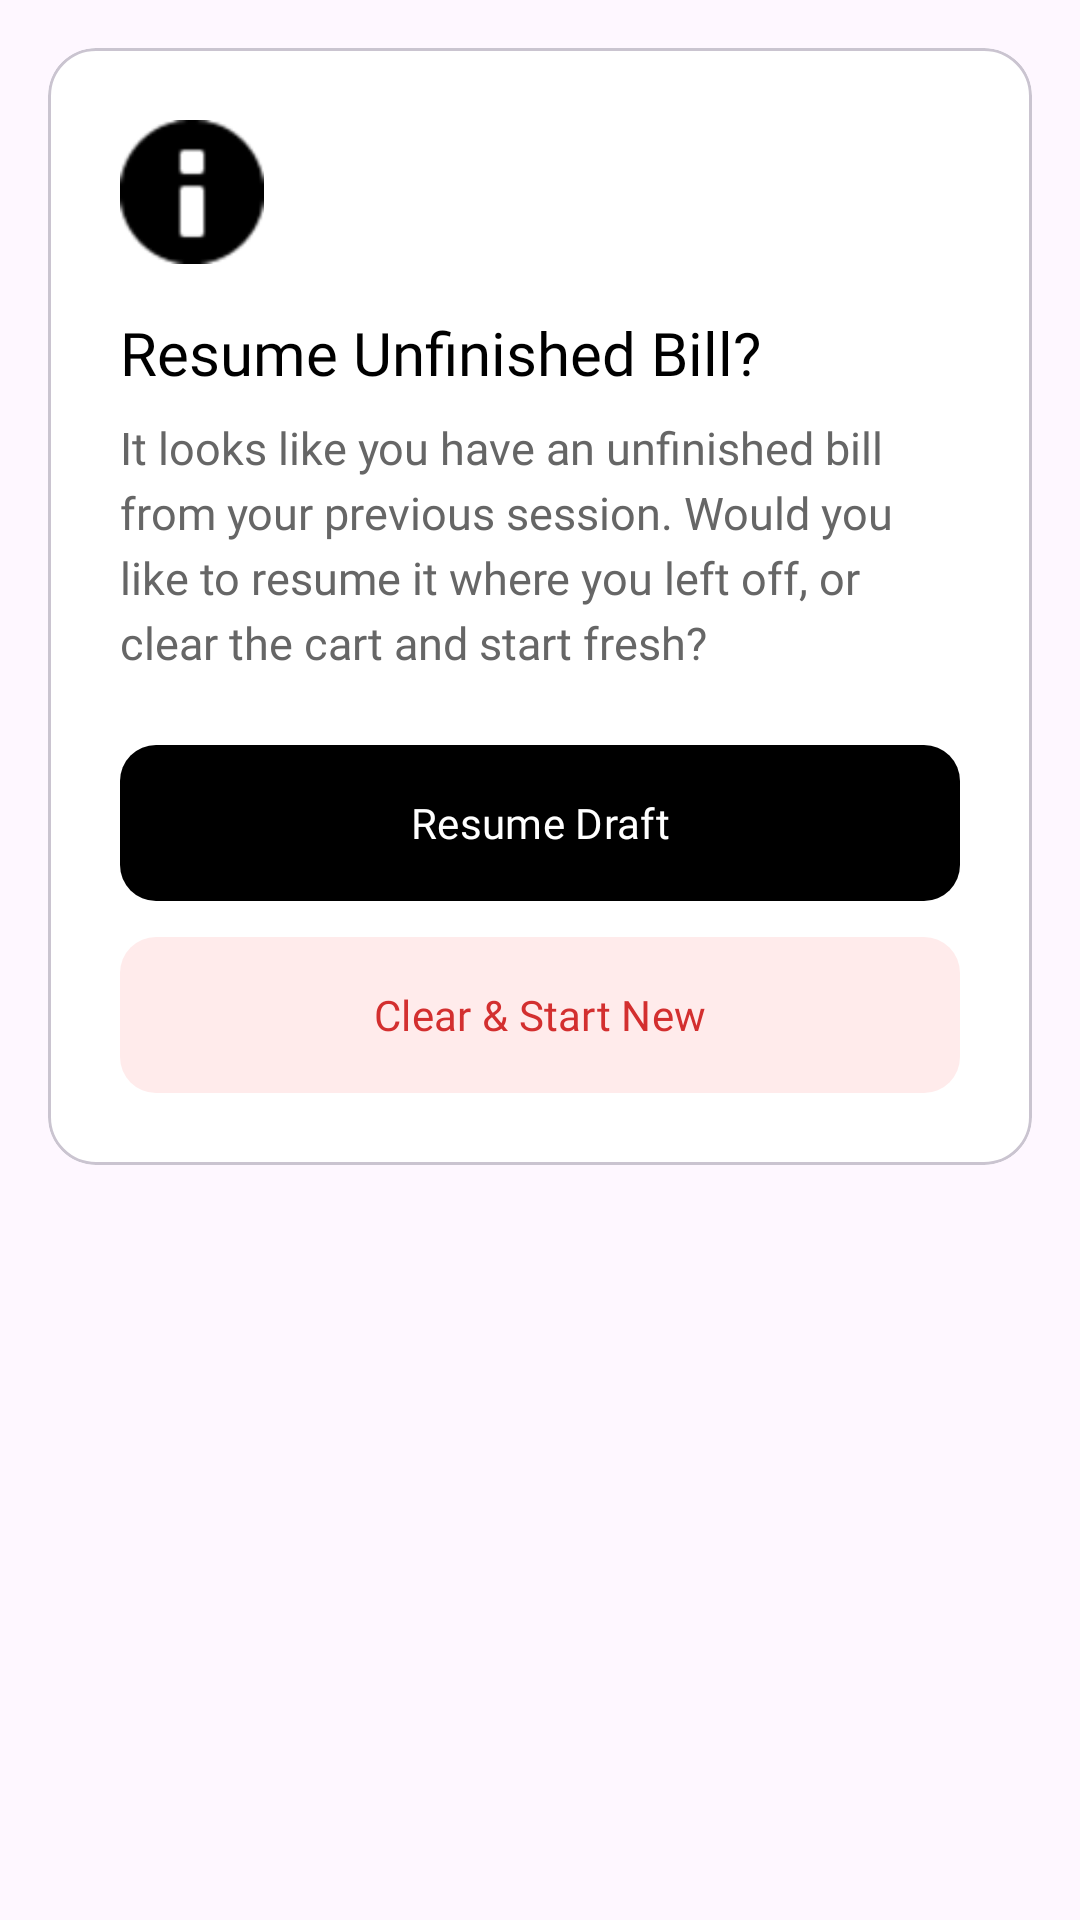

Named icons in this screenshot (1080 × 1920) and their centers, [x,y]:
info: [192,192]
